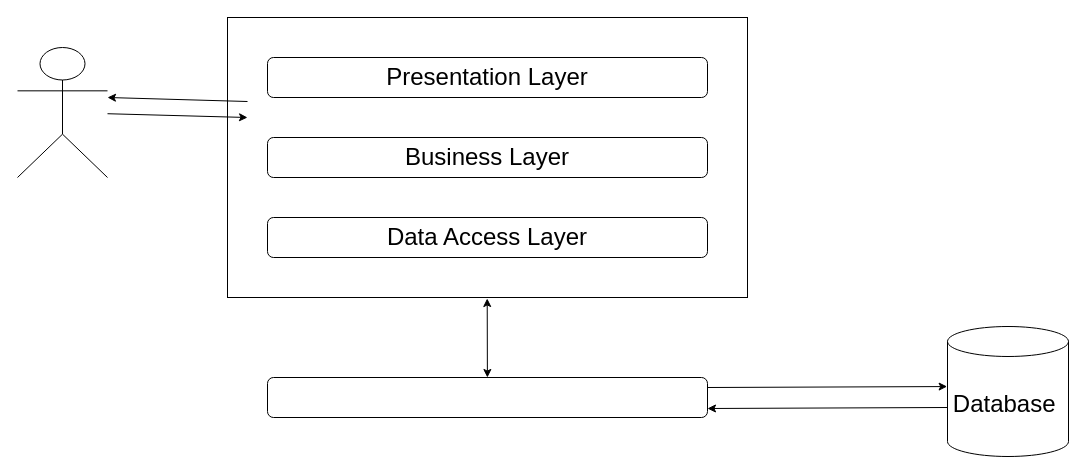
Image size: 1086x474. Some labels were removed from this diagram. The box of each missing label's shape, as (x1, y1, x2, y2) in pixels:
User: (16, 46, 108, 178)
Web Server: (266, 376, 708, 418)
